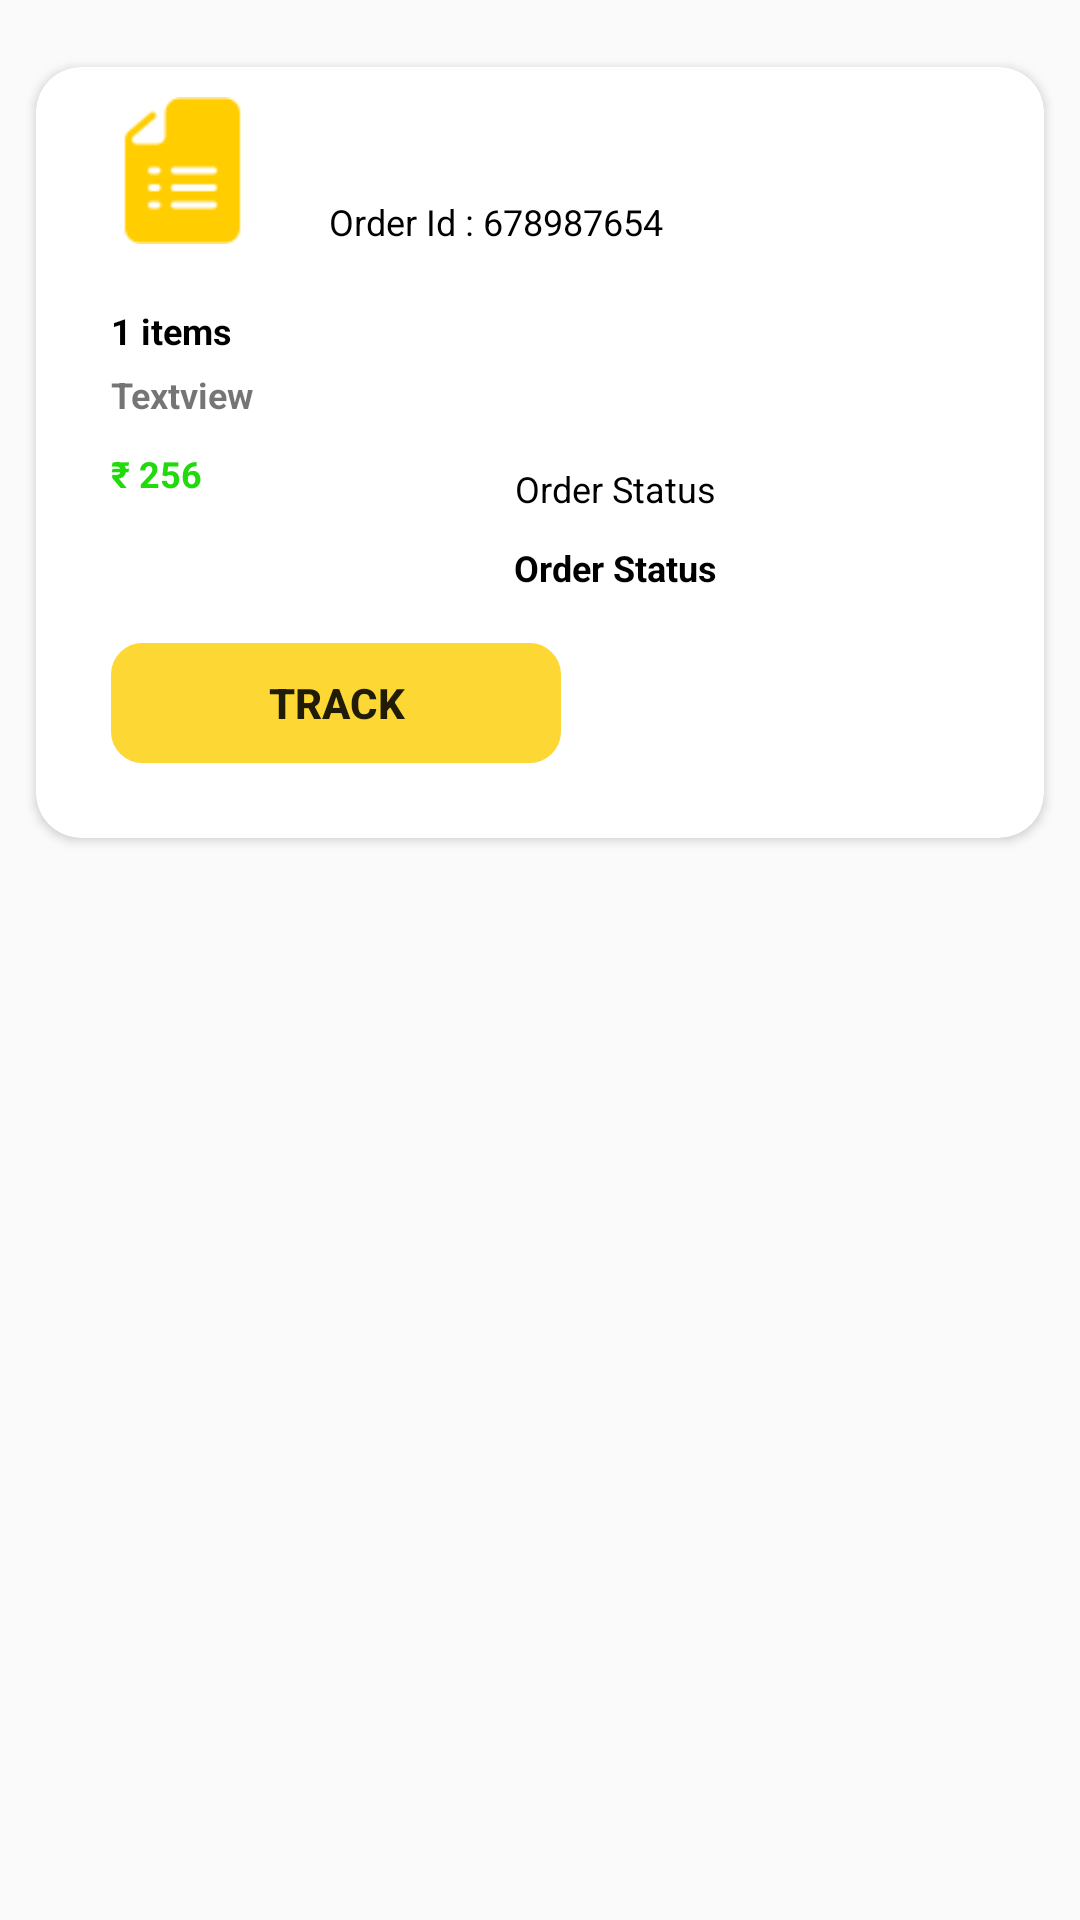

Named icons in this screenshot (1080 x 1920) and their centers, (x,y):
list: (182,170)
